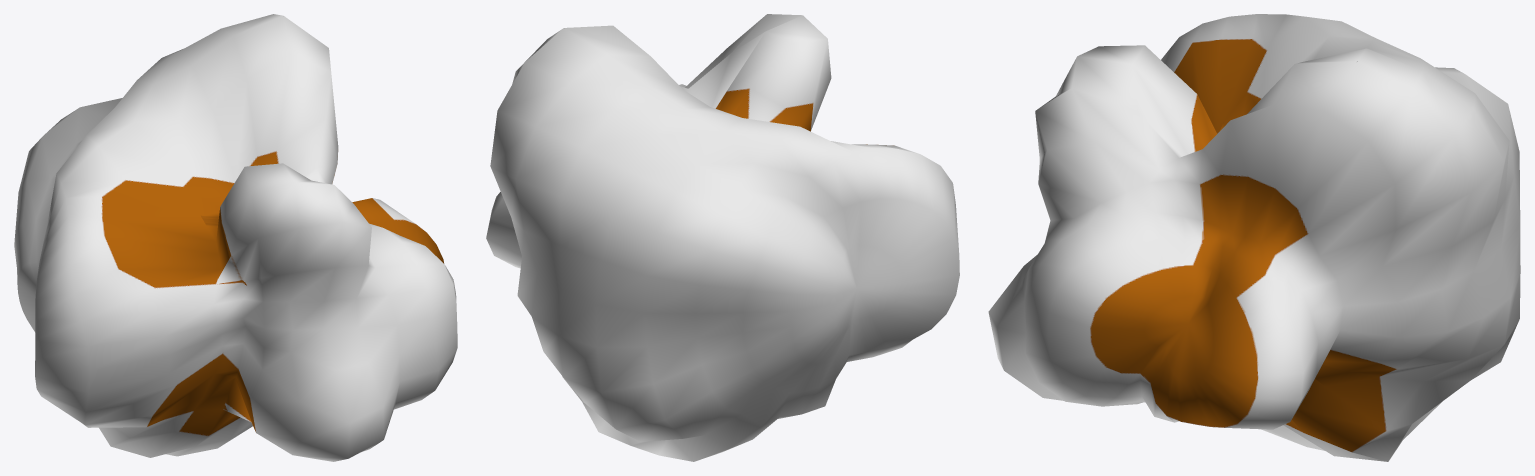
The model's file is popcornSingle.fbx.
3 views of the same model, side by side, from view 1: azimuth 30°, elevation 25°; view 2: azimuth 150°, elevation 25°; view 3: azimuth 270°, elevation 25° (orthographic). The views are drawn at different scales.
Parts seen in each view (by area): view 1: Sphere.001; view 2: Sphere.001; view 3: Sphere.001.
Boxes of the visible parts, x1=… form: Sphere.001: x1=14, y1=14, x2=457, y2=461; Sphere.001: x1=486, y1=14, x2=959, y2=461; Sphere.001: x1=988, y1=14, x2=1520, y2=461.
Size of the model in its own units: 116 by 101 by 108.
Materials: 1 (1 with a texture image).
